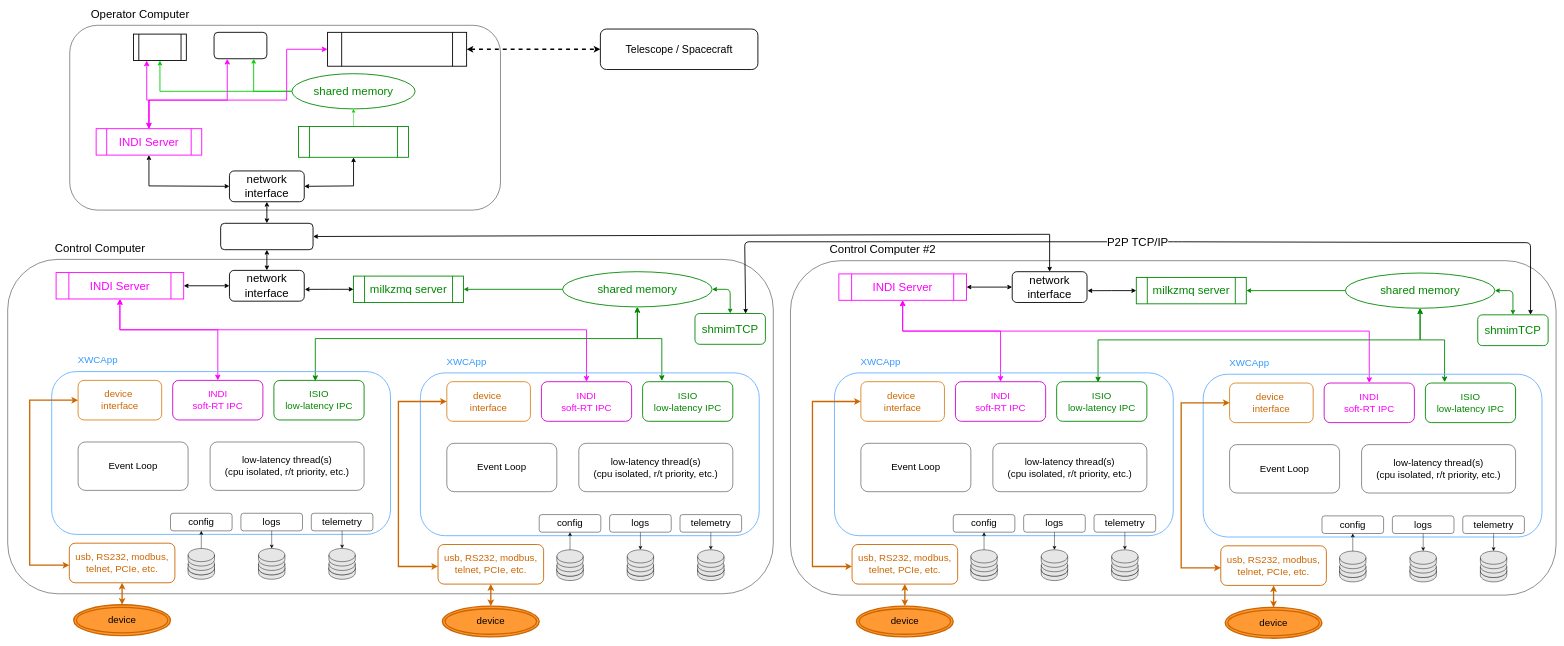
This 1564x646 diagram has some shape labels left out. Each missing label, with the centre of its shape:
external interface (INDI Driver|Client): (x=397, y=49)
GUI: (x=240, y=45)
milkzmq client: (x=353, y=142)
script: (x=160, y=47)
tcp/ip network: (x=266, y=236)
